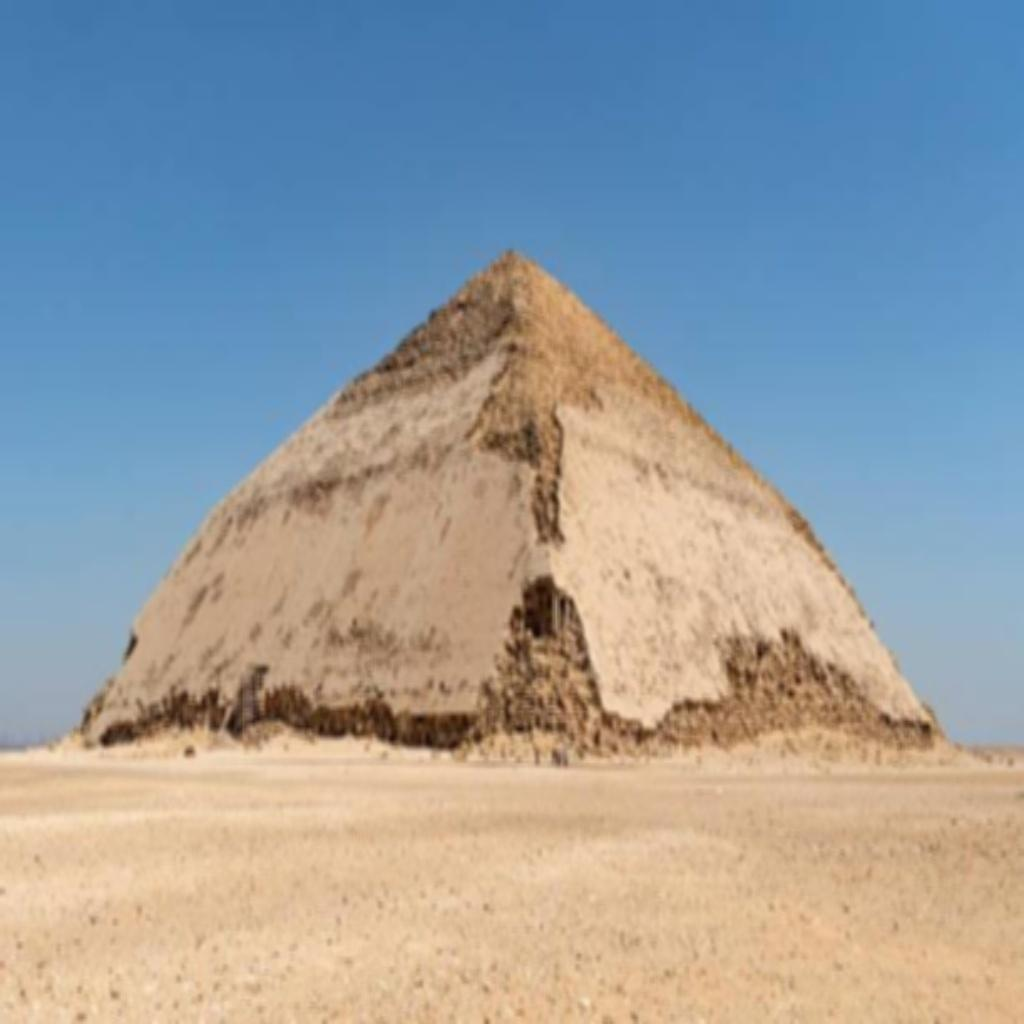Bent Pyramid of King Sneferu: (57, 243, 954, 763)
